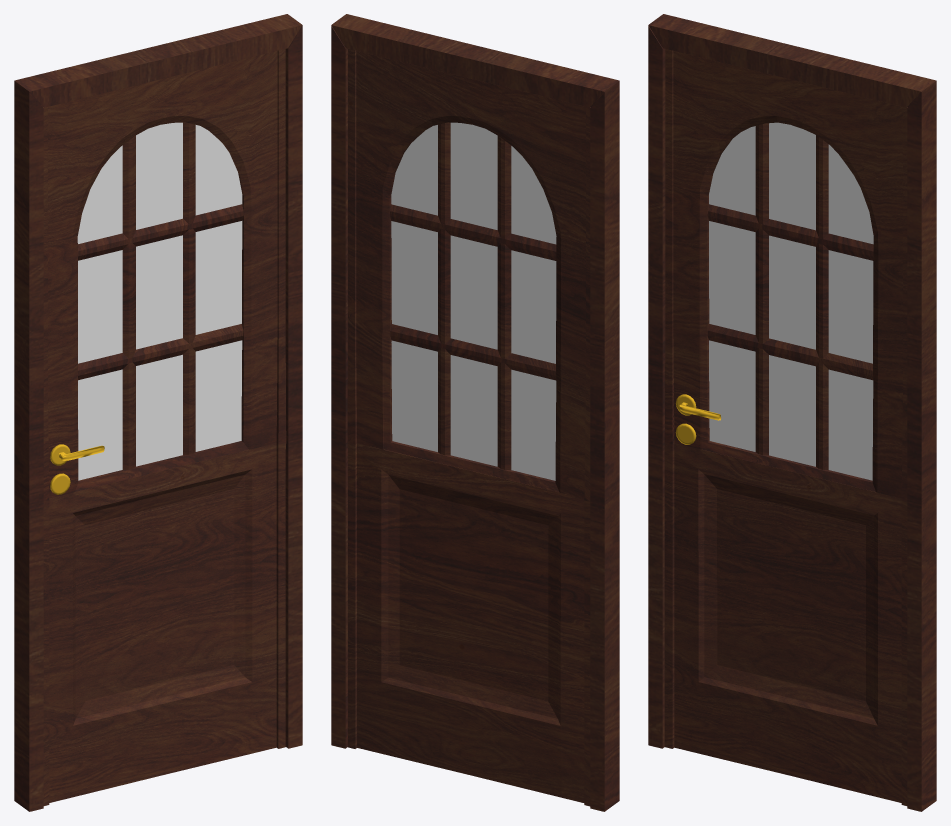
Rendered from PUERTA53_CAMBRIDGE.glb.
3 renders of one model, left to right at view 1: azimuth 30°, elevation 25°; view 2: azimuth 150°, elevation 25°; view 3: azimuth 330°, elevation 25°, orthographic.
Parts seen in each view (by area): view 1: Puerta53_CAMBRIDGE.002, Puerta53_Marco, CRISTAL_GRANDE, Puerta53_Cerradura; view 2: Puerta53_CAMBRIDGE.002, Puerta53_Marco, CRISTAL_GRANDE; view 3: Puerta53_CAMBRIDGE.002, Puerta53_Marco, CRISTAL_GRANDE, Puerta53_Cerradura.
Part boxes in pixels (x1=…): Puerta53_CAMBRIDGE.002: x1=43, y1=49, x2=286, y2=805; Puerta53_Marco: x1=14, y1=14, x2=302, y2=811; CRISTAL_GRANDE: x1=77, y1=122, x2=242, y2=480; Puerta53_Cerradura: x1=50, y1=444, x2=104, y2=494; Puerta53_CAMBRIDGE.002: x1=347, y1=49, x2=590, y2=806; Puerta53_Marco: x1=331, y1=14, x2=619, y2=811; CRISTAL_GRANDE: x1=391, y1=122, x2=556, y2=480; Puerta53_CAMBRIDGE.002: x1=664, y1=49, x2=907, y2=805; Puerta53_Marco: x1=648, y1=14, x2=936, y2=811; CRISTAL_GRANDE: x1=709, y1=122, x2=873, y2=480; Puerta53_Cerradura: x1=675, y1=394, x2=721, y2=444.
Bounding box in the file's own units: 769 × 1936 × 85.
Materials: 6 (4 with a texture image).
